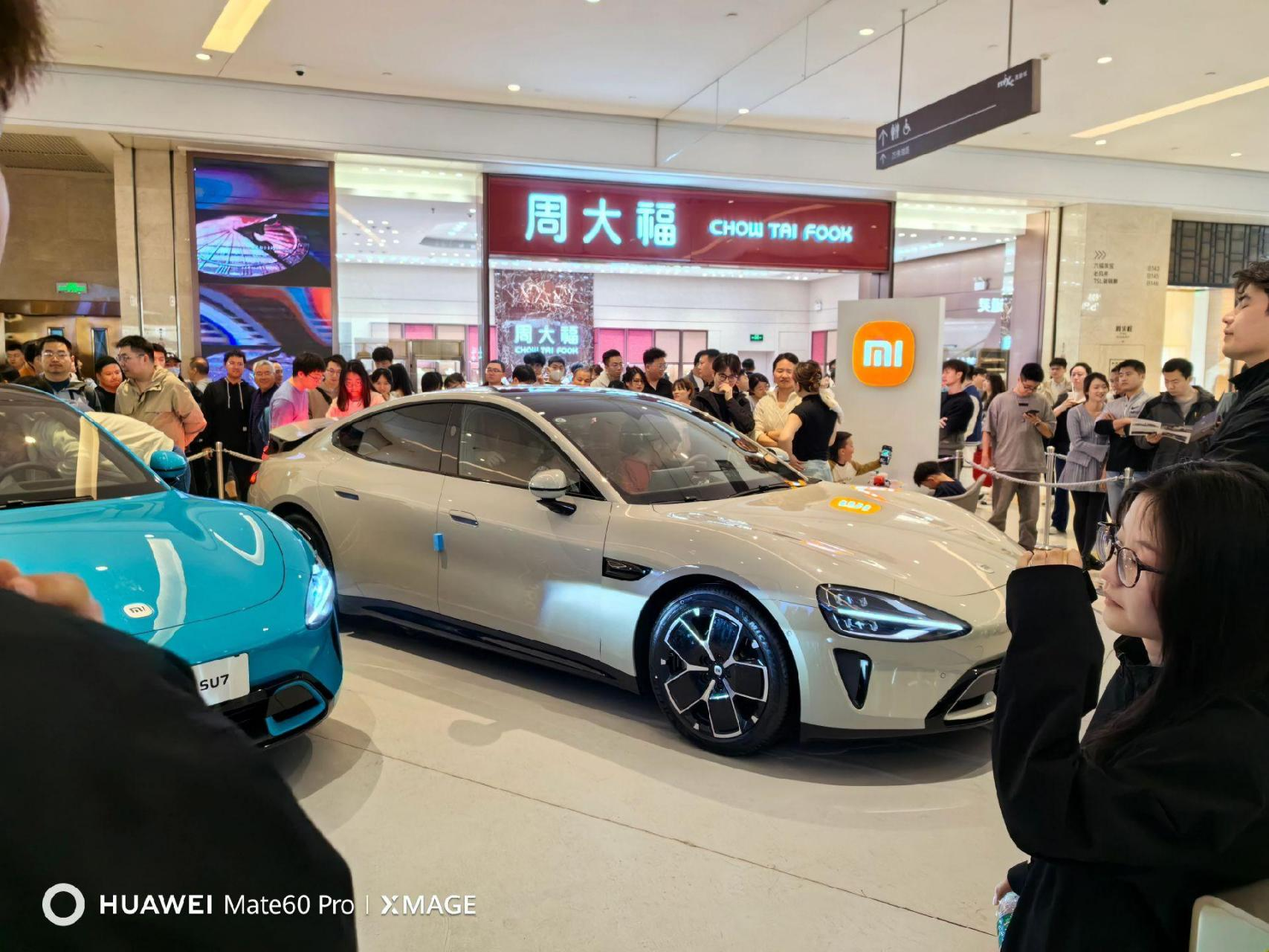su7: (265, 391, 1051, 766), (0, 379, 365, 756)
